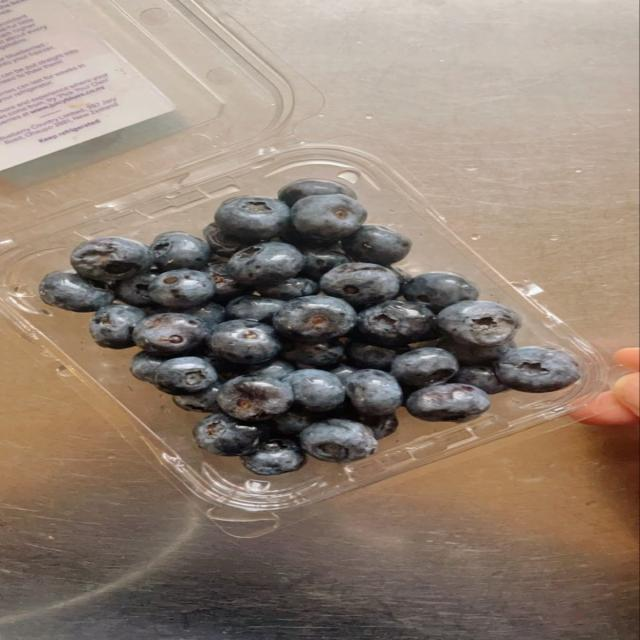blueberry: (273, 296, 357, 343), (496, 347, 580, 393), (437, 301, 521, 346), (71, 237, 154, 281), (292, 195, 366, 242), (320, 263, 400, 306), (358, 301, 435, 345), (215, 197, 290, 242), (228, 242, 304, 286), (218, 376, 293, 420), (300, 420, 377, 462), (207, 320, 280, 364), (406, 383, 490, 421), (133, 314, 208, 356), (194, 412, 265, 455), (403, 272, 478, 312), (39, 271, 114, 311), (342, 225, 411, 265), (391, 348, 458, 387), (149, 269, 215, 308), (346, 370, 402, 415), (286, 370, 345, 412), (90, 305, 146, 349), (150, 232, 211, 271), (154, 357, 218, 394), (241, 439, 305, 475), (278, 179, 356, 206), (438, 339, 515, 365), (204, 263, 251, 303), (226, 295, 284, 323), (451, 366, 509, 394), (282, 341, 344, 367), (346, 341, 399, 371), (203, 223, 247, 259), (279, 224, 338, 250), (302, 248, 350, 279), (115, 272, 157, 306), (257, 277, 318, 300), (273, 407, 321, 436), (173, 383, 220, 412), (181, 302, 224, 328), (130, 351, 165, 382), (357, 414, 398, 439), (247, 359, 295, 379), (330, 364, 357, 383), (390, 267, 412, 286)
